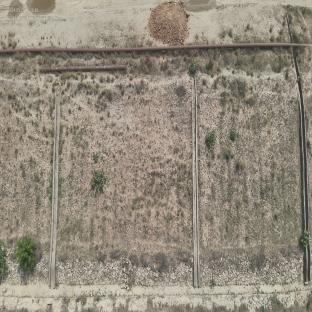rock_toe: (57, 256, 193, 285), (201, 253, 302, 285), (2, 246, 49, 284)
slope_drain: (293, 52, 309, 233), (49, 92, 61, 288), (192, 77, 201, 287), (303, 244, 311, 284), (286, 14, 293, 44)
toe_drain: (0, 280, 312, 299)
vegetation: (15, 237, 36, 274)
